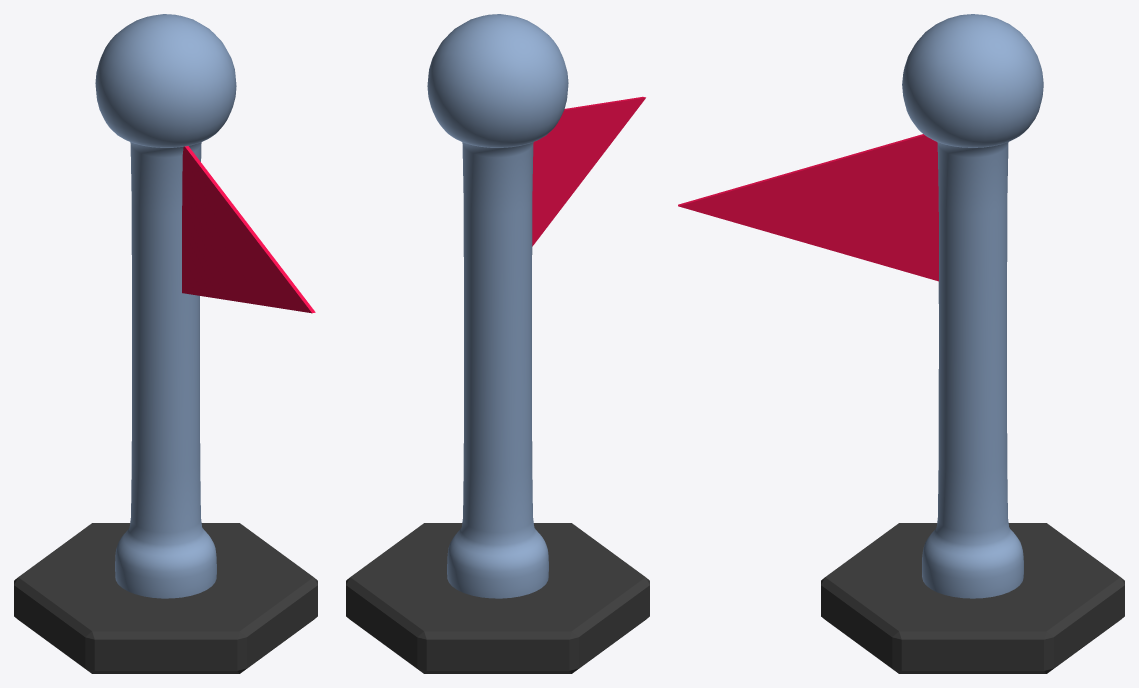
File: flag.fbx
The picture shows the model from 3 angles, left to right: view 1: azimuth 30°, elevation 25°; view 2: azimuth 150°, elevation 25°; view 3: azimuth 270°, elevation 25°; orthographic projection.
Parts seen in each view (by area): view 1: Palo, Base, Flag; view 2: Palo, Base, Flag; view 3: Palo, Base, Flag.
Part boxes in pixels (bbox=[...]): Palo: bbox=[95, 14, 236, 598]; Base: bbox=[14, 523, 317, 673]; Flag: bbox=[182, 146, 315, 313]; Palo: bbox=[427, 14, 568, 598]; Base: bbox=[346, 523, 649, 673]; Flag: bbox=[532, 96, 645, 246]; Palo: bbox=[902, 14, 1043, 598]; Base: bbox=[821, 523, 1124, 673]; Flag: bbox=[678, 134, 938, 281].
Size of the model in its own units: 66.61 by 164 by 111.
